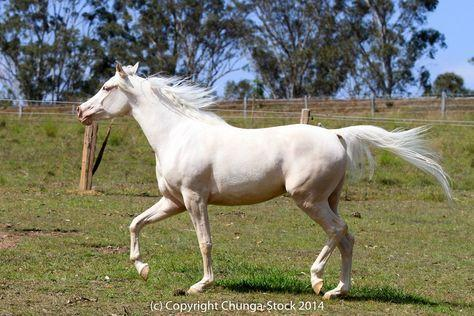horse: (76, 60, 457, 300)
